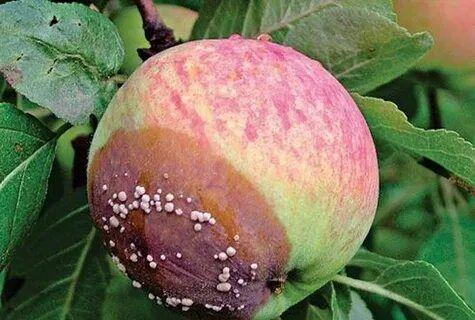Apple: (88, 38, 380, 317)
